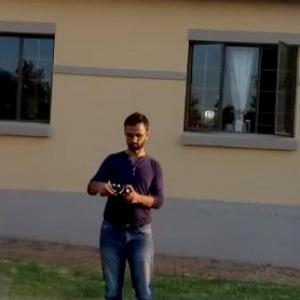follow: (82, 104, 171, 299)
